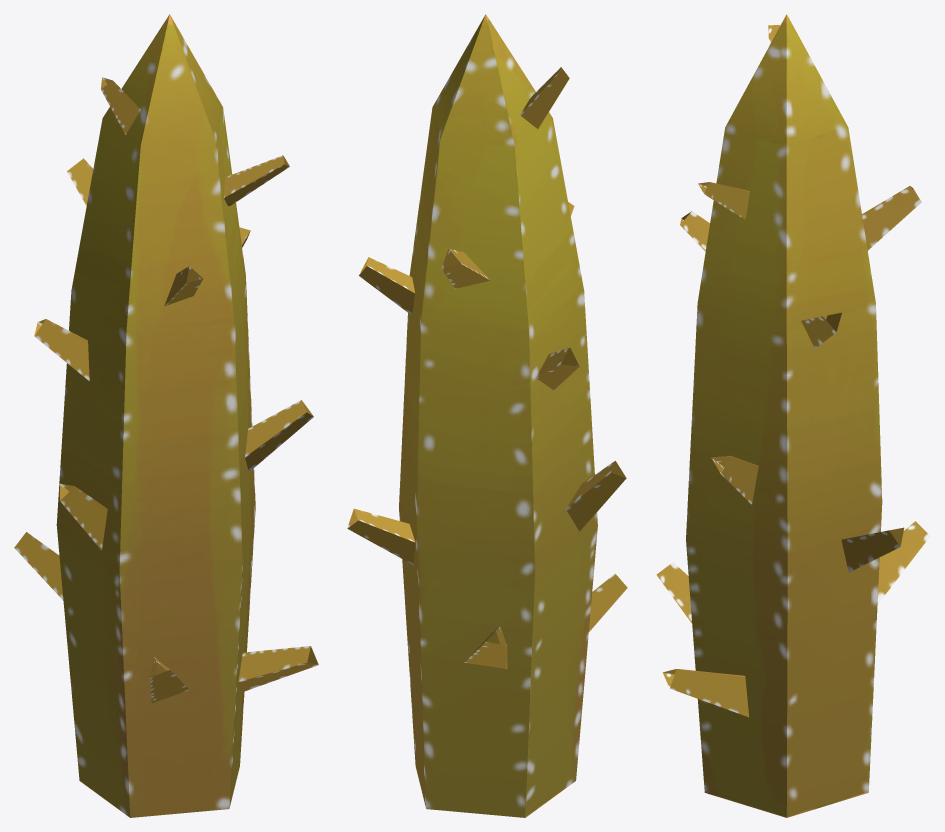
File: desert-cactus2.fbx
The picture shows the model from 3 angles, left to right: view 1: azimuth 30°, elevation 25°; view 2: azimuth 150°, elevation 25°; view 3: azimuth 270°, elevation 25°; orthographic projection.
Visible parts, largest first — view 1: polySurface50; view 2: polySurface50; view 3: polySurface50.
Part boxes in pixels (box(x1,y1,x2,y2)): polySurface50: box(14, 14, 318, 817); polySurface50: box(347, 14, 627, 817); polySurface50: box(656, 14, 930, 817).
Size of the model in its own units: 50.41 by 156 by 50.53.
1 material, 1 textured.
